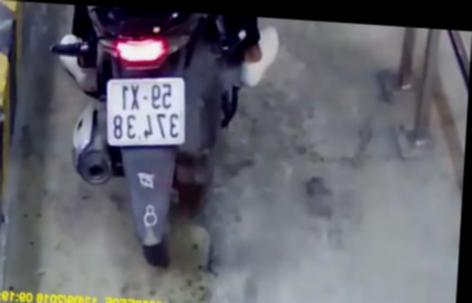License_Plate: (94, 70, 192, 153)
